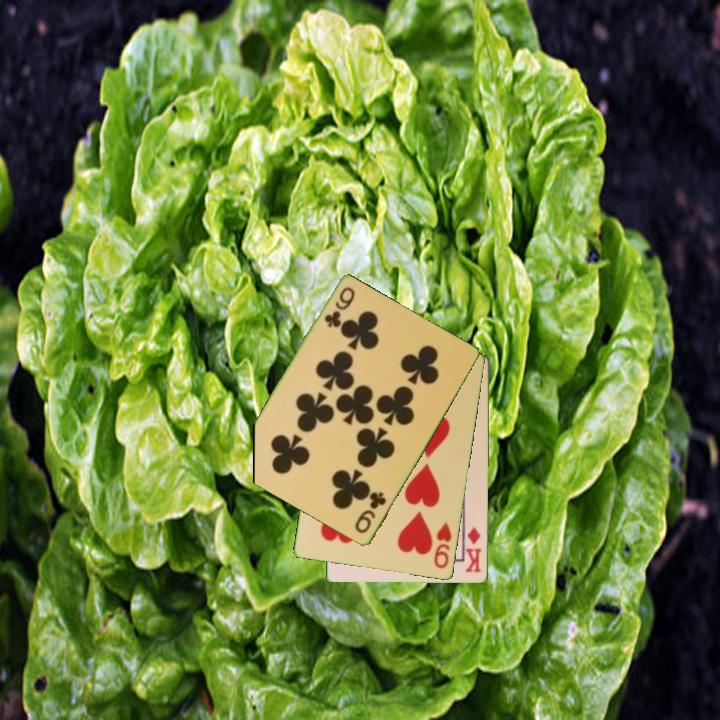9c: (351, 488, 389, 537), (321, 283, 358, 331)
9h: (430, 519, 455, 572)
Kd: (462, 524, 485, 575)
